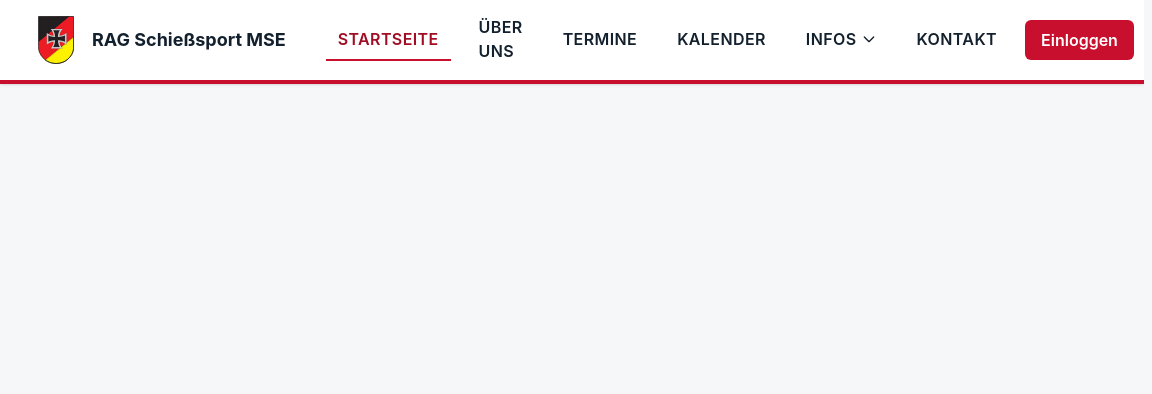
Test: Navigation › opens the infos dropdown on desktop
Click the button "Infos" at (841, 40), box [794,19,888,61]
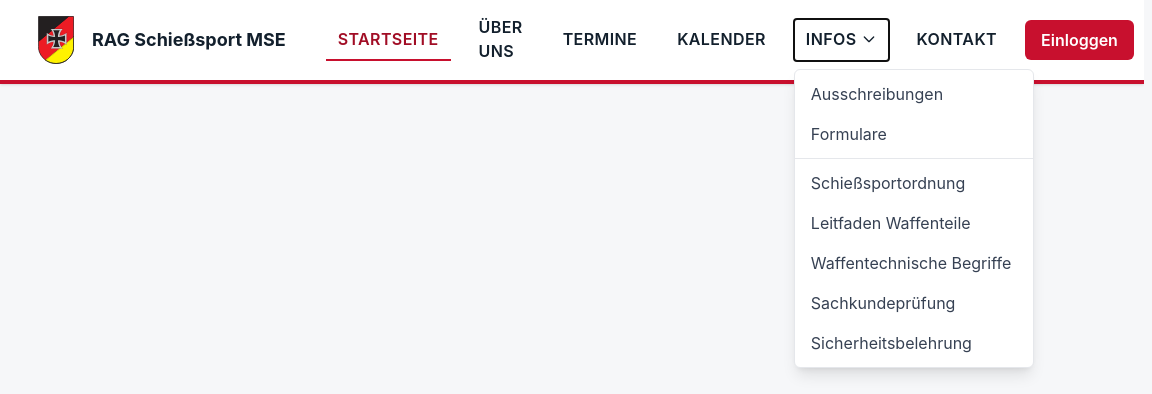
Expected: the link "Schießsportordnung" is shown, [811,173,965,193]
Expected: the link "Sicherheitsbelehrung" is shown, [811,333,972,353]
